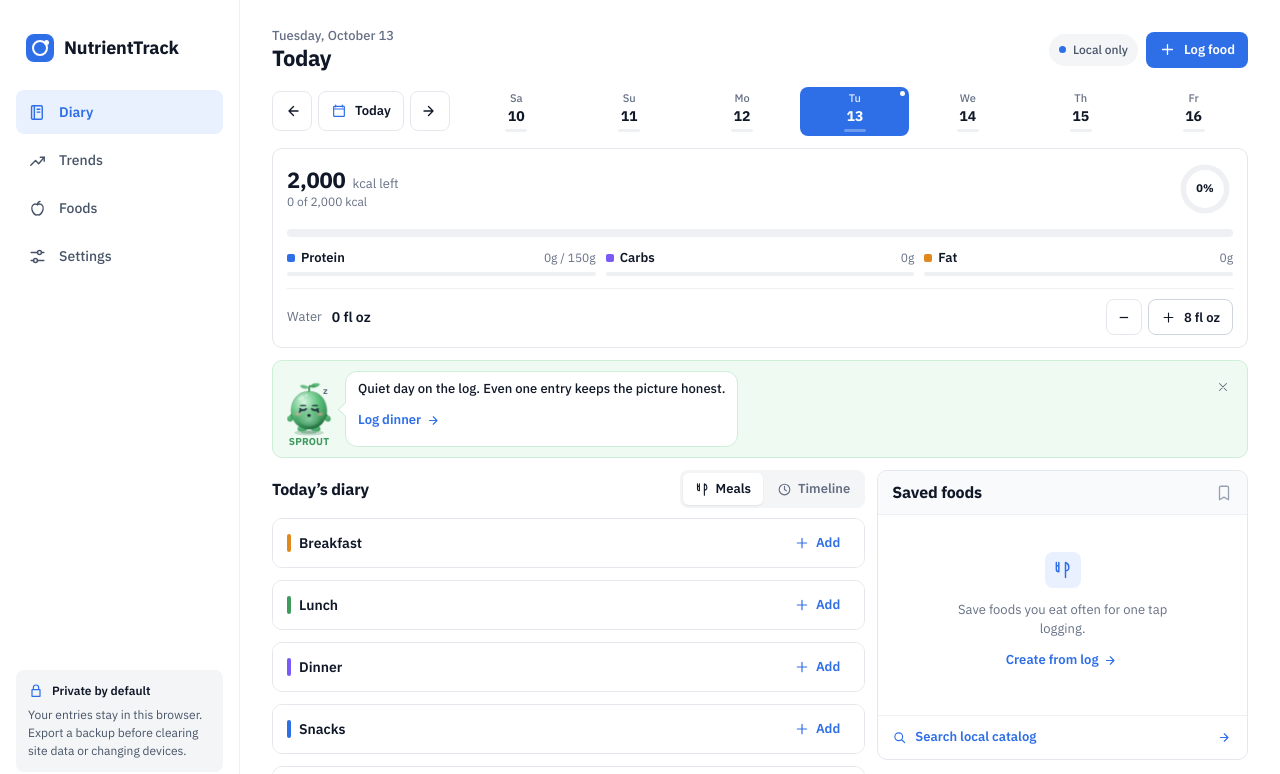
Trends: weekly check-in › is hidden when no program is set
Click the button "Trends" at [120, 160], box [16,138,223,182]
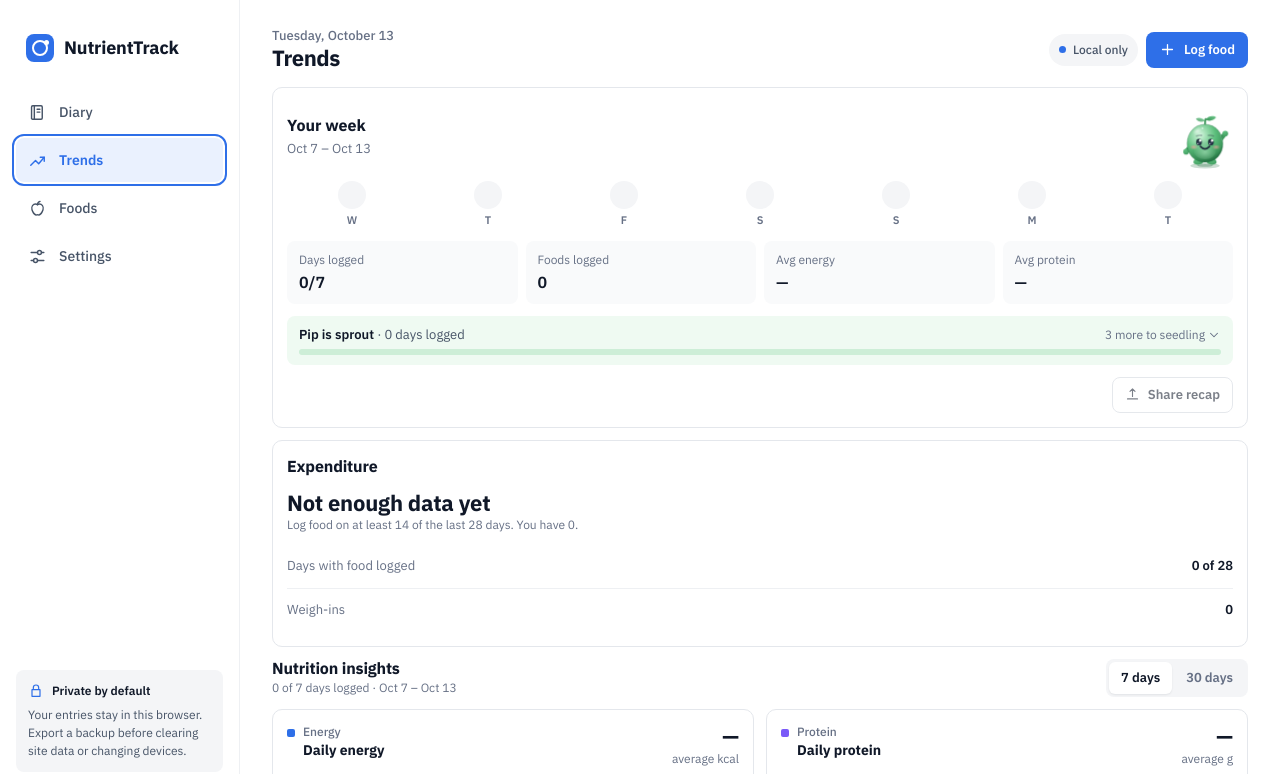
Expected: the heading "Expenditure" is shown, [287,455,378,478]
